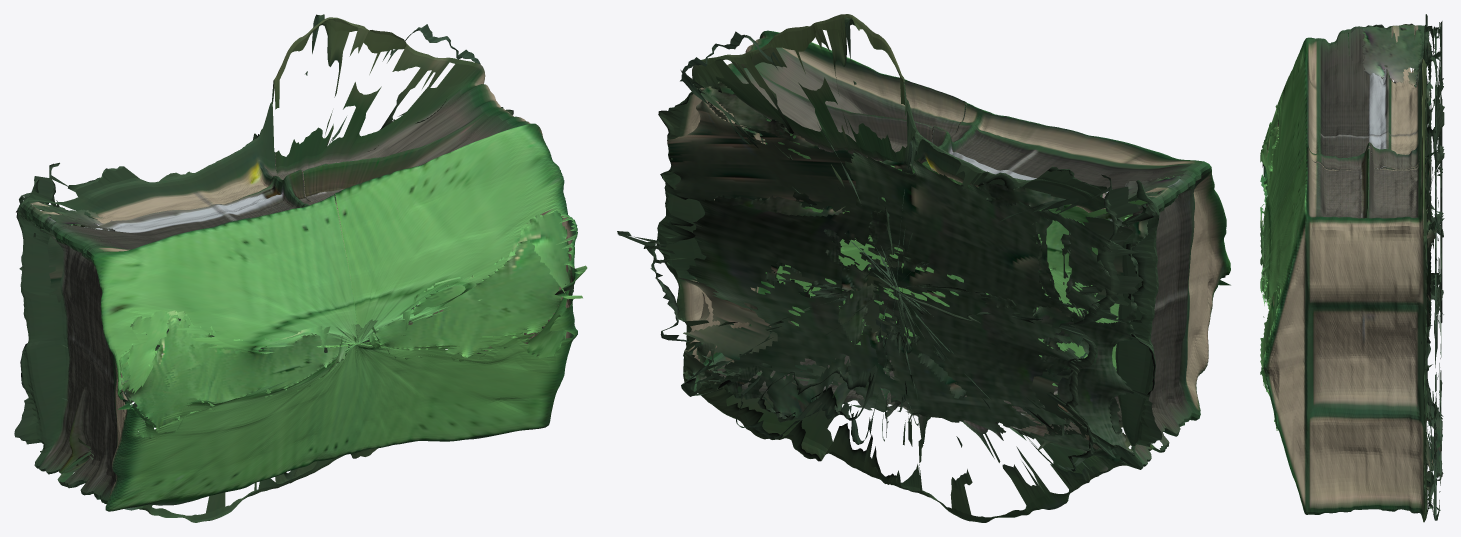
Rendered from mesh_inpaint.glb.
The picture shows the model from 3 angles, left to right: view 1: azimuth 30°, elevation 25°; view 2: azimuth 150°, elevation 25°; view 3: azimuth 270°, elevation 25°; orthographic projection. The views are drawn at different scales.
Parts seen in each view (by area): view 1: ipn, fill; view 2: fill, ipn; view 3: ipn, fill.
Boxes of the visible parts, x1,y1,x2,y2 form: ipn: (14,14,587,522); fill: (24,99,570,466); fill: (667,81,1192,466); ipn: (617,14,1230,522); ipn: (1262,14,1442,522); fill: (1260,25,1444,510).
Size of the model in its own units: 1.89 by 1.59 by 0.598.
2 materials, 1 textured.
